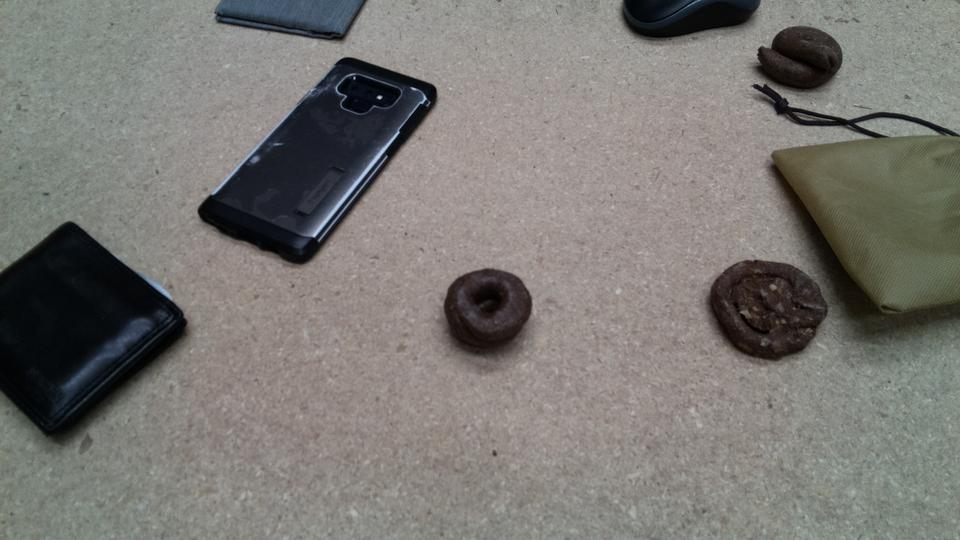poop: (706, 258, 831, 363), (443, 266, 537, 353), (755, 24, 846, 93)
